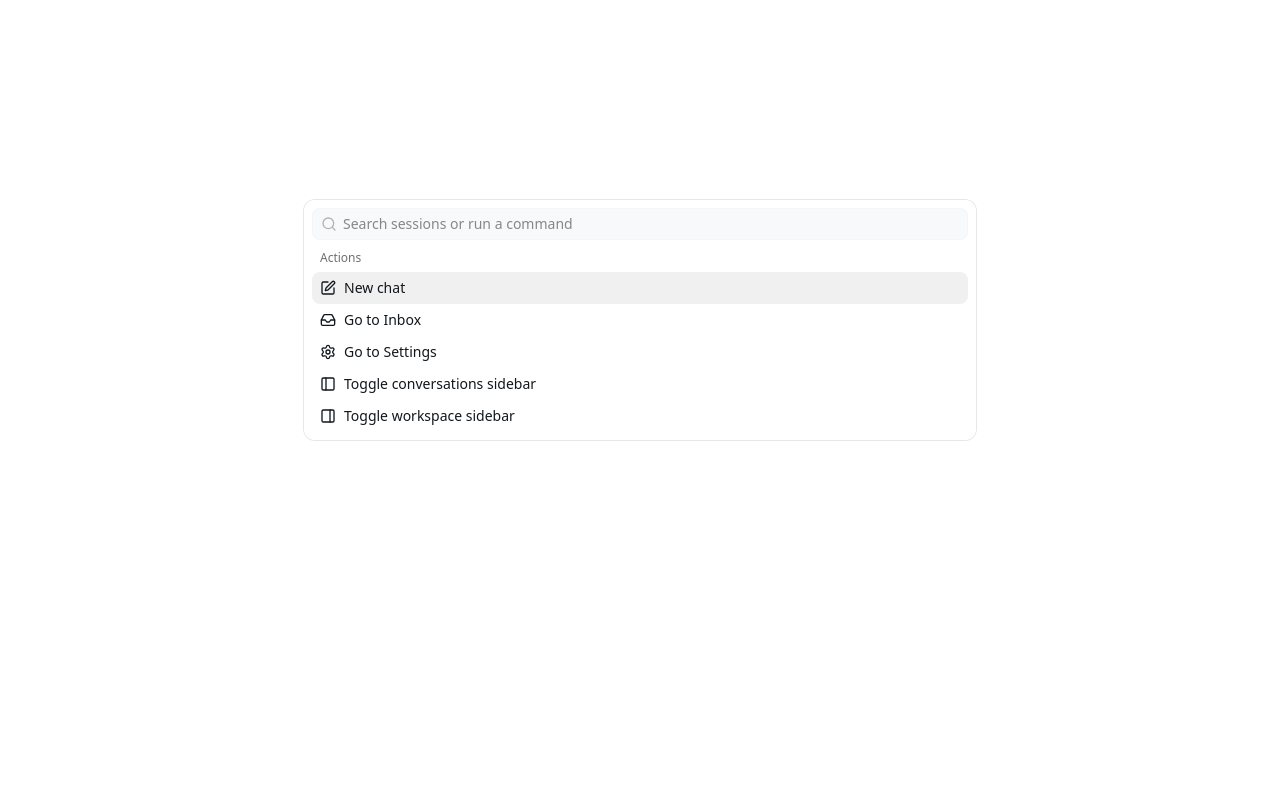
Test: CommandPalette — actions › filters actions client-side against the query
The width and height of the screenshot is (1280, 800).
In the dropdown with test id "command-palette-input": [652, 224] box [337,214,967,234], type "settings"
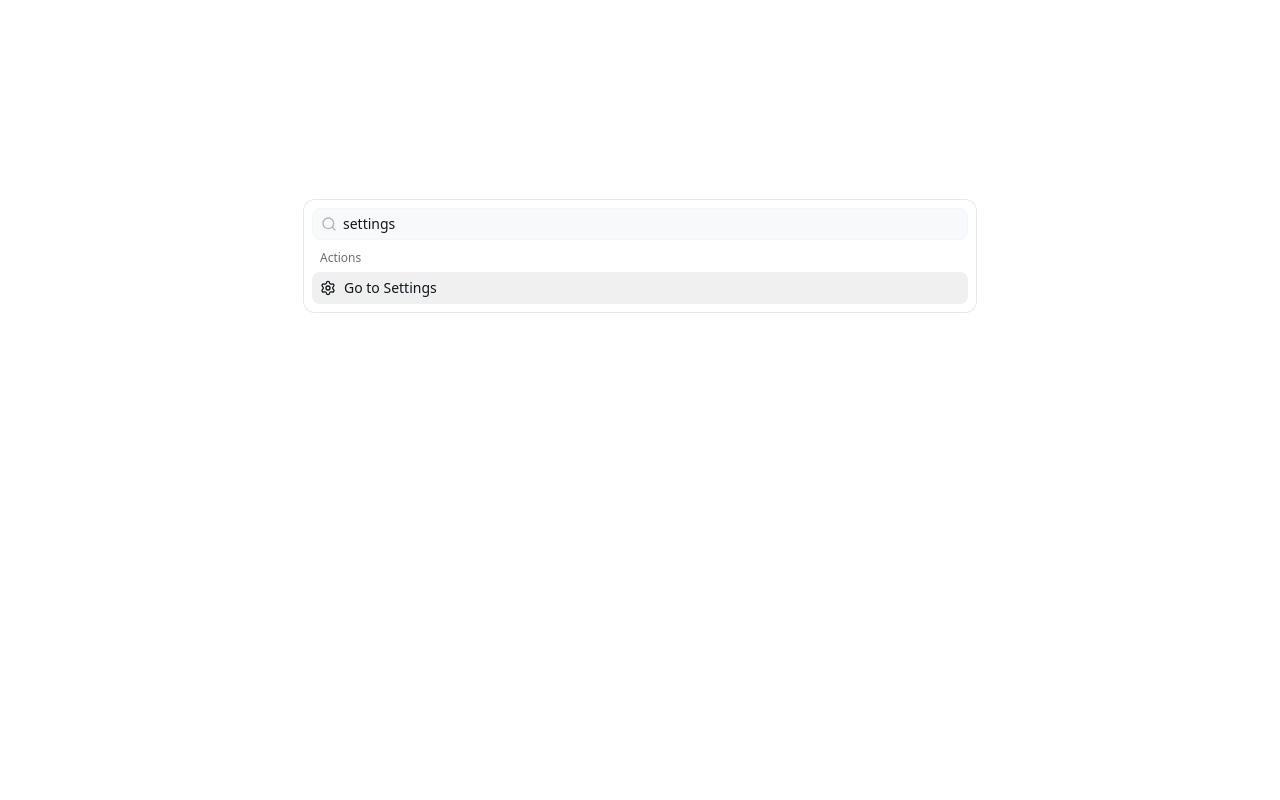
expect the text "Go to Settings" is shown: met, box [344,278,437,297]
expect the option "New chat" is gone: met
